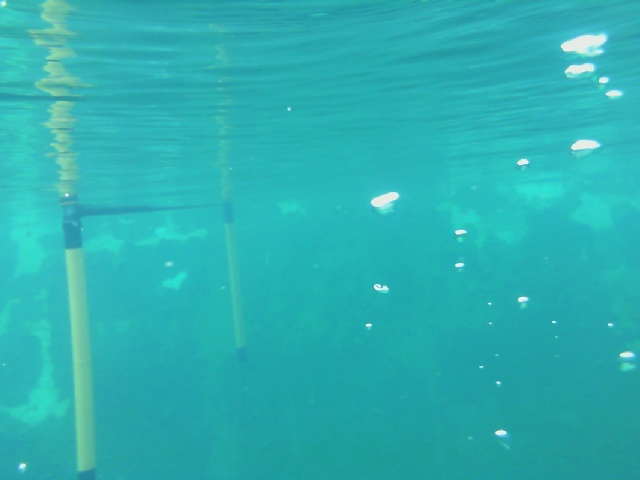qual_gate: (53, 208, 103, 479), (219, 197, 252, 366)
